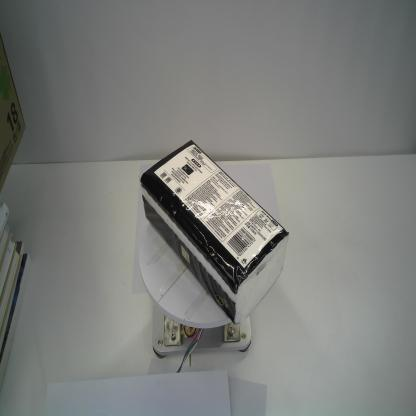Tissue: (139, 139, 288, 325)
